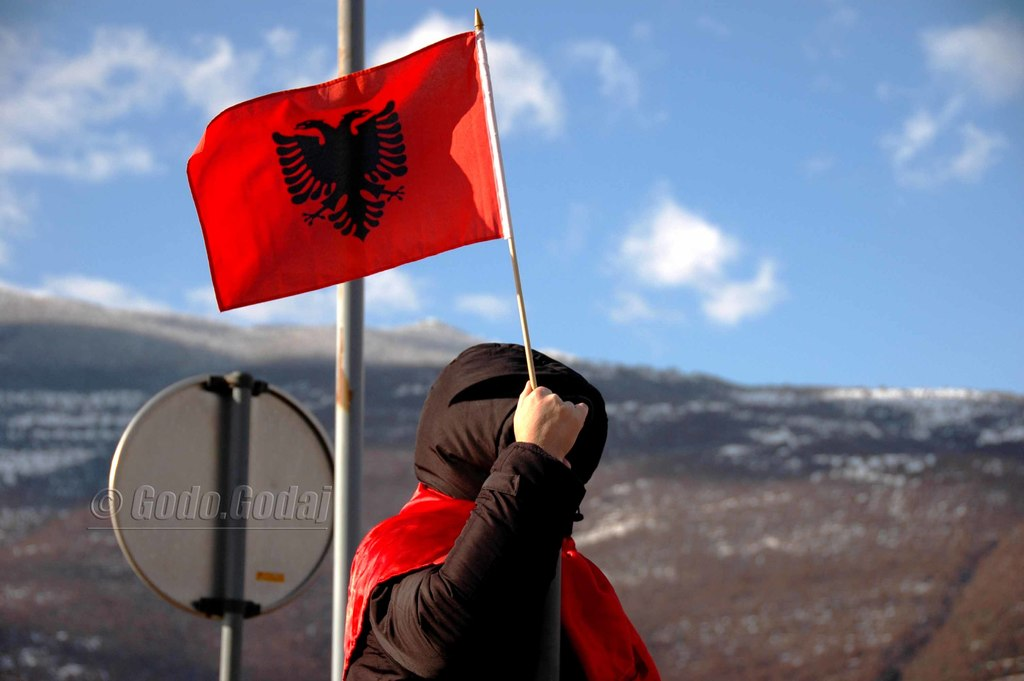Human_hand: (510, 375, 591, 461)
